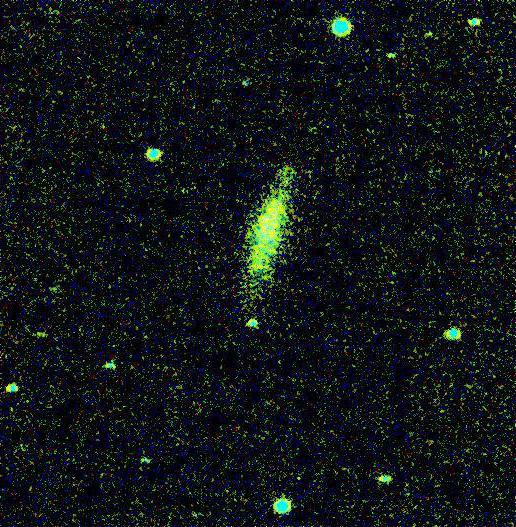star: (257, 187, 287, 217)
